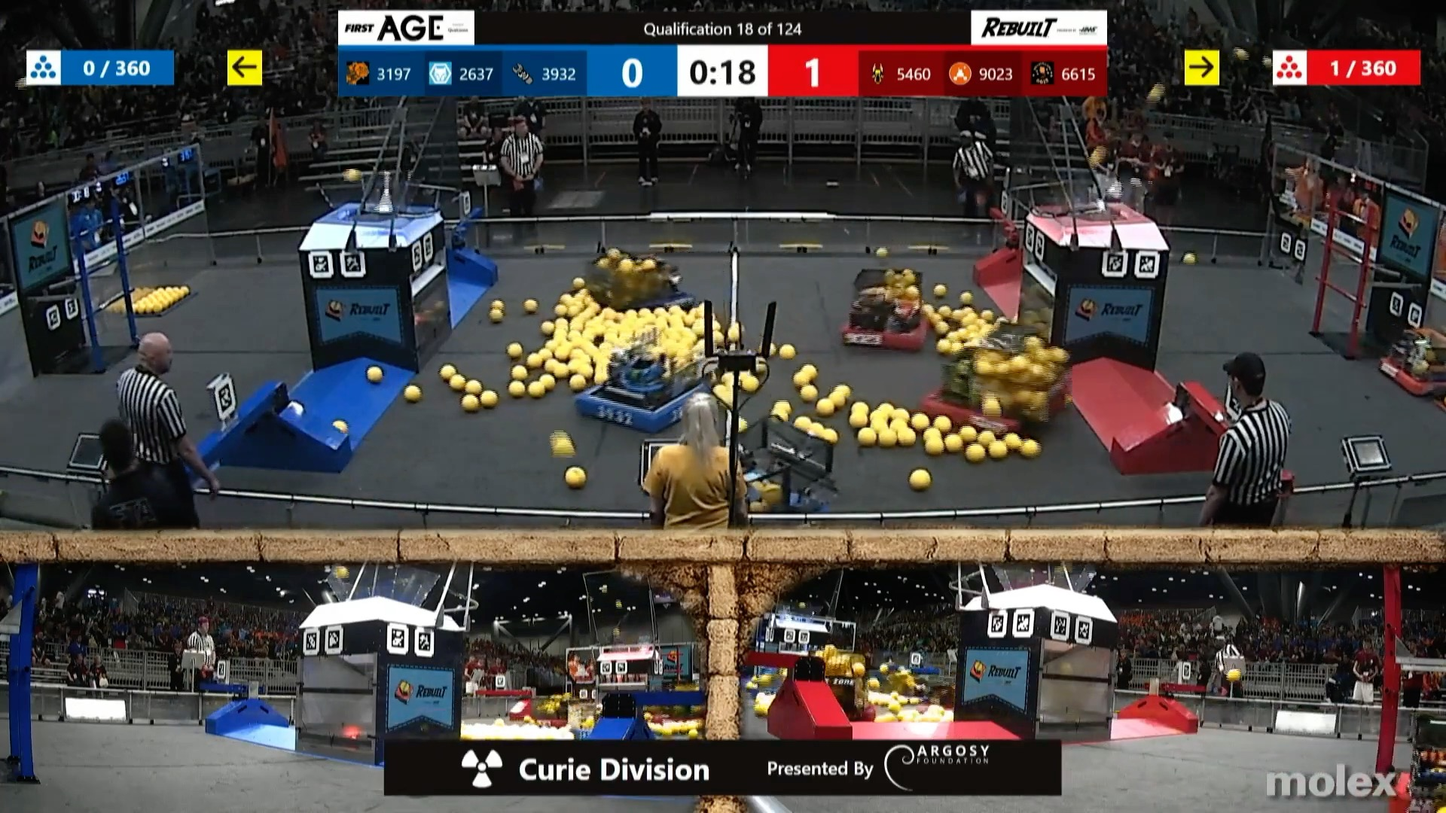bumpers: (920, 363, 1074, 443), (566, 377, 714, 432), (575, 283, 705, 322), (834, 311, 935, 356), (1366, 350, 1446, 401)
